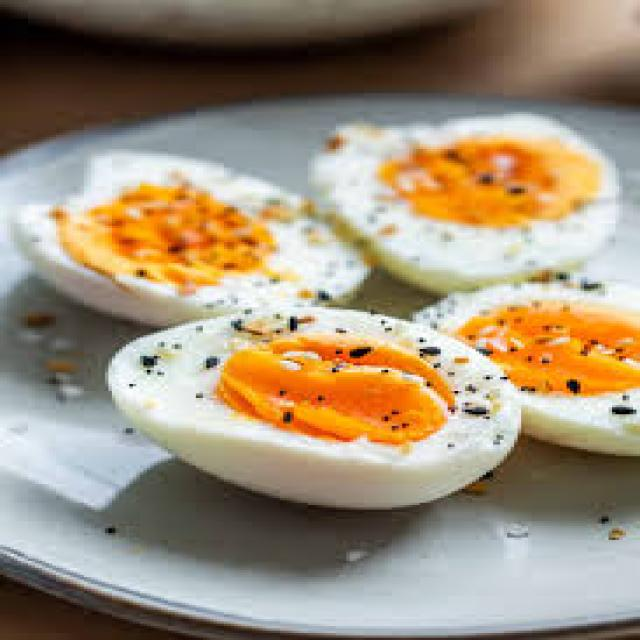boiled egg: (10, 105, 640, 539)
